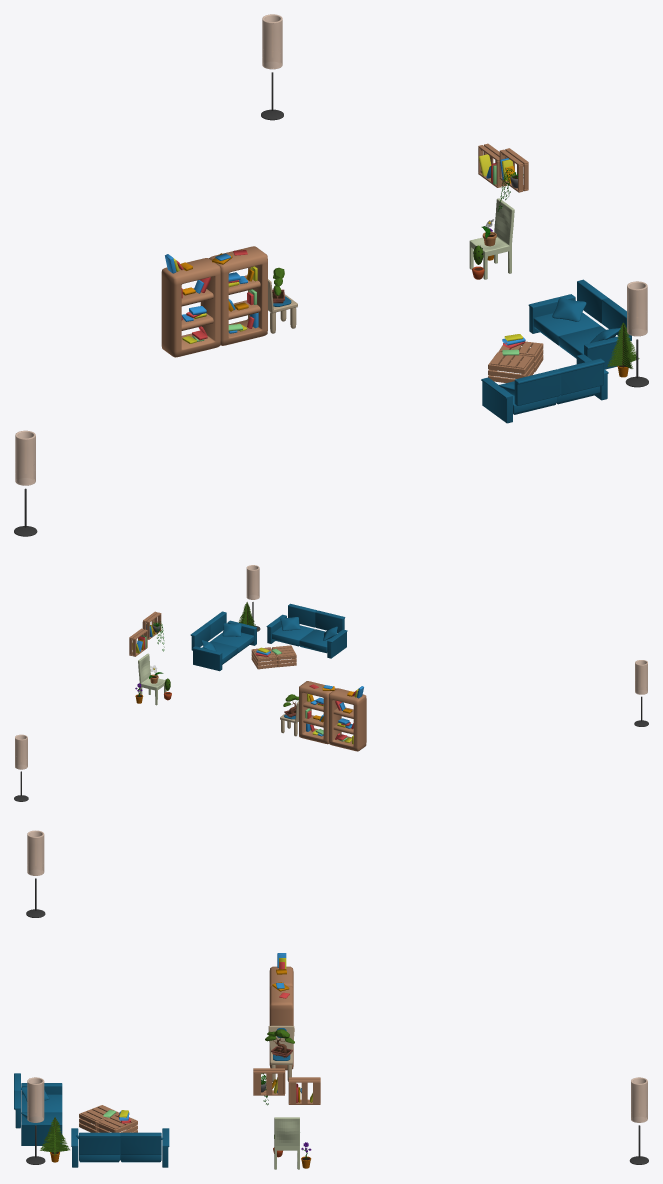
3 views of the same model, one above another, from view 1: azimuth 30°, elevation 25°; view 2: azimuth 150°, elevation 25°; view 3: azimuth 270°, elevation 25° (orthographic). The views are drawn at different scales.
Visible parts, largest first — view 1: Deko_L_Shape suburb I; view 2: Deko_L_Shape suburb I; view 3: Deko_L_Shape suburb I.
Boxes of the visible parts, x1,y1,x2,y2 form: Deko_L_Shape suburb I: (14, 14, 648, 536); Deko_L_Shape suburb I: (14, 565, 648, 801); Deko_L_Shape suburb I: (14, 830, 648, 1169).
Size of the model in its own units: 12.16 by 2.17 by 12.52.
5 materials, 1 textured.
